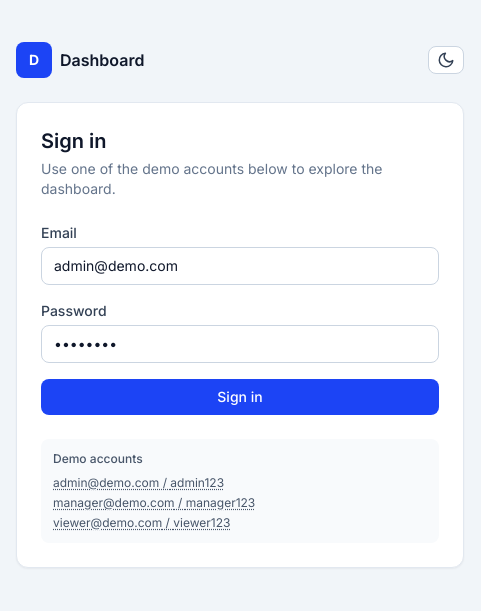
LoginPage › shows an error for the wrong password
In the password field labelled "Password": (240, 344) [41, 325, 439, 363], type "wrong-password"
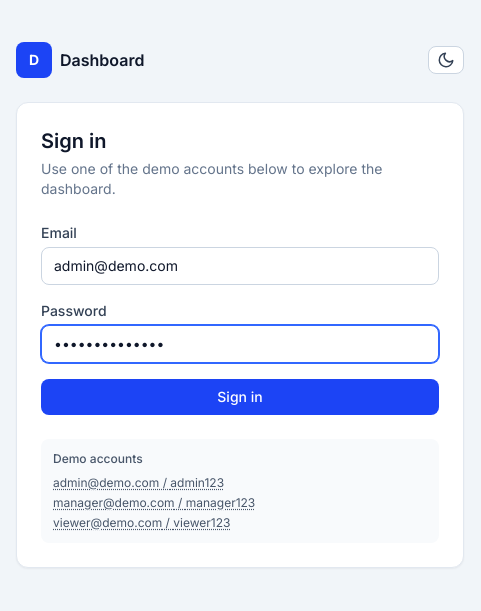
Click the button "Sign in": (240, 397) [41, 379, 439, 415]
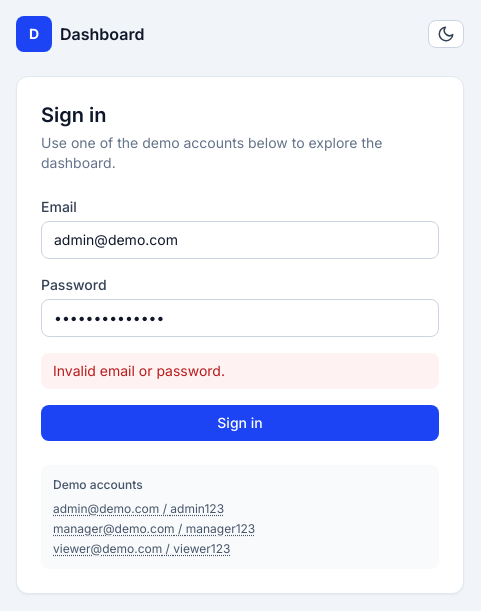
Expected: the text "Invalid email or password." is shown, [41, 353, 439, 389]
